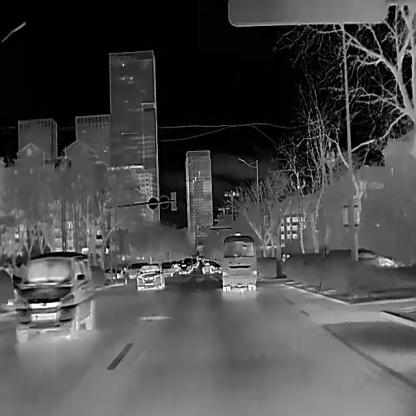bus: (218, 232, 258, 292)
car: (13, 250, 94, 343), (358, 244, 404, 266), (134, 262, 164, 290), (125, 262, 143, 278), (201, 259, 220, 274), (162, 261, 172, 276), (178, 262, 189, 274)
